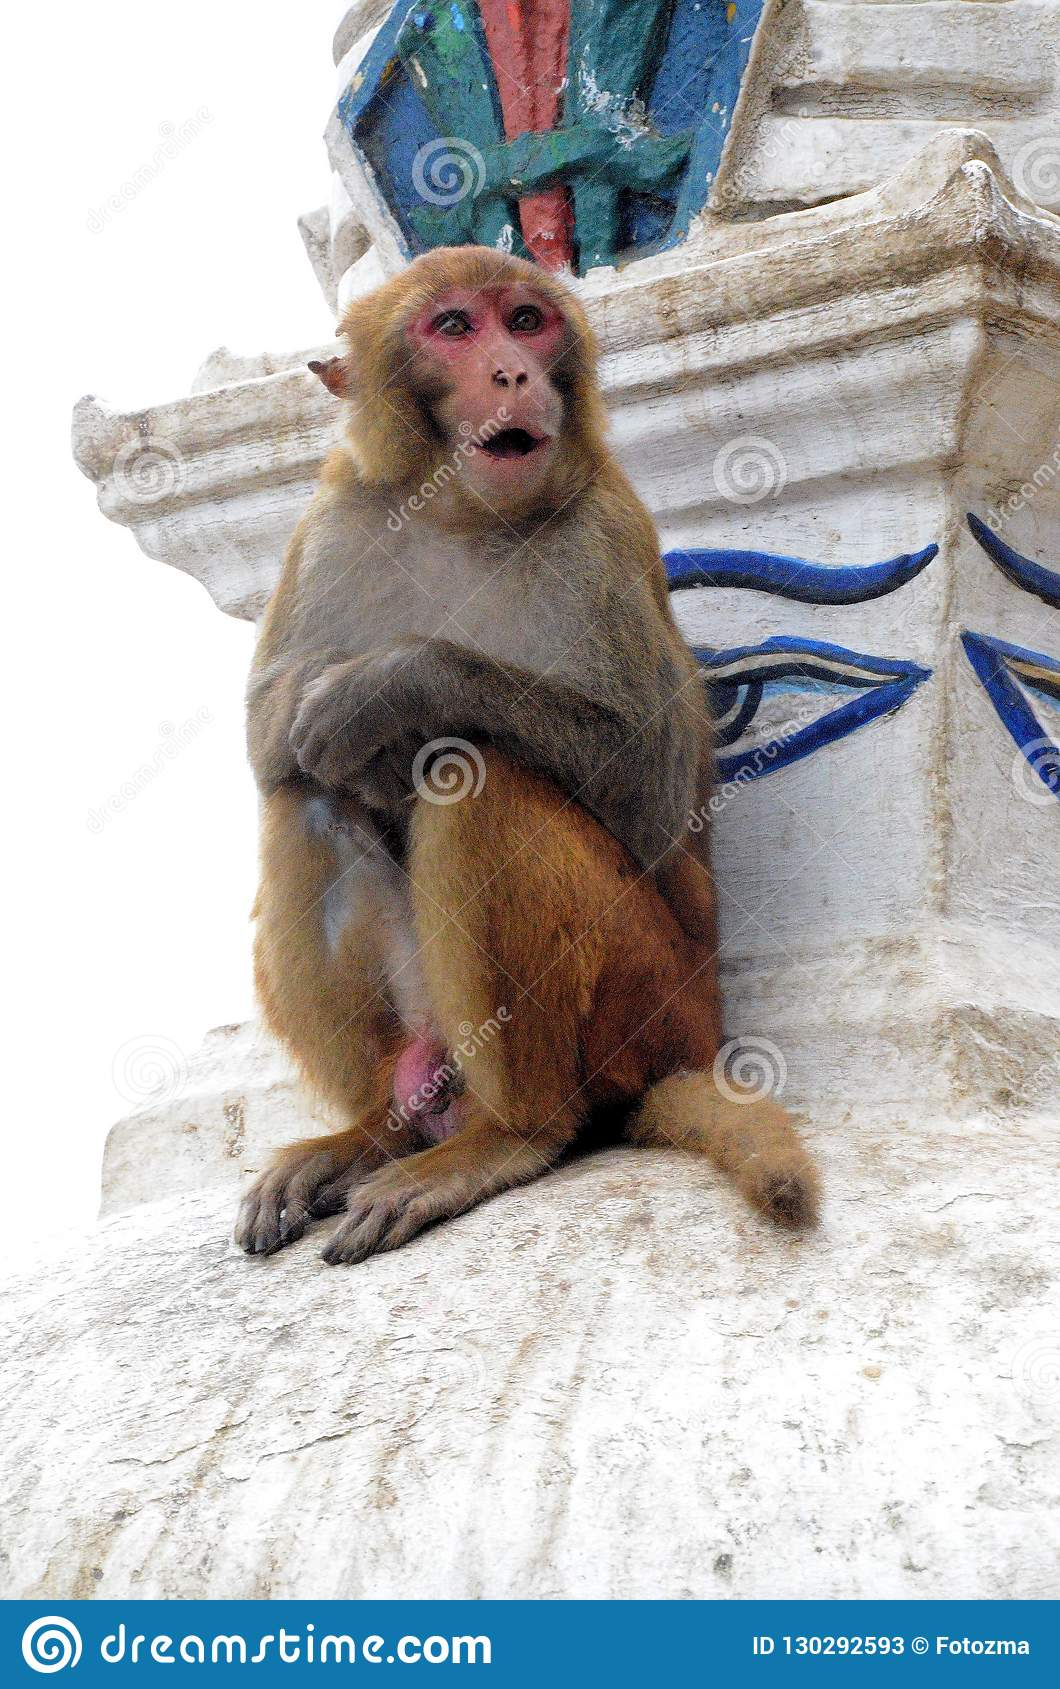monkey: (193, 237, 828, 1288)
